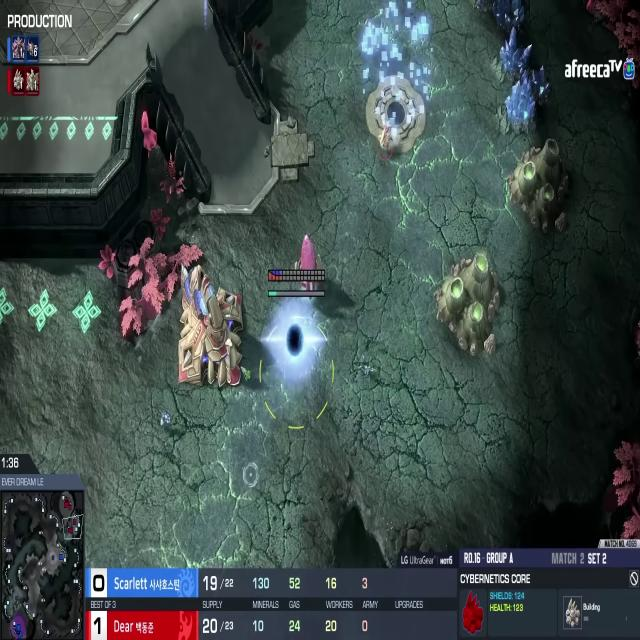probe: (375, 120, 396, 158)
